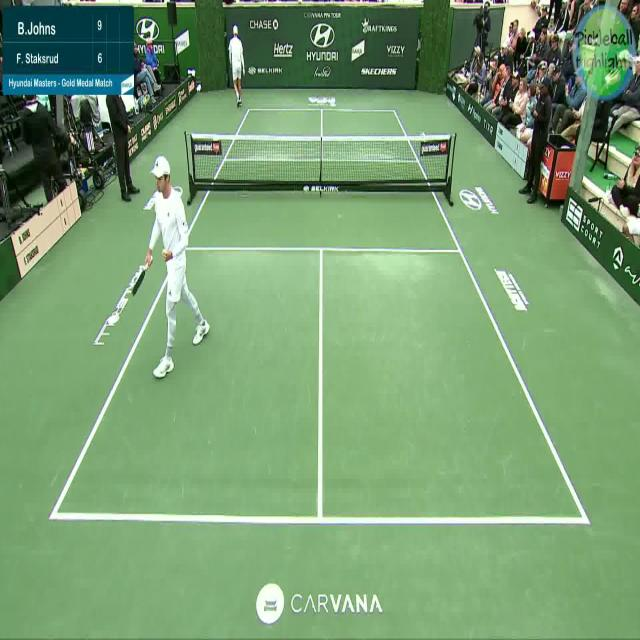Court: (51, 109, 586, 520)
